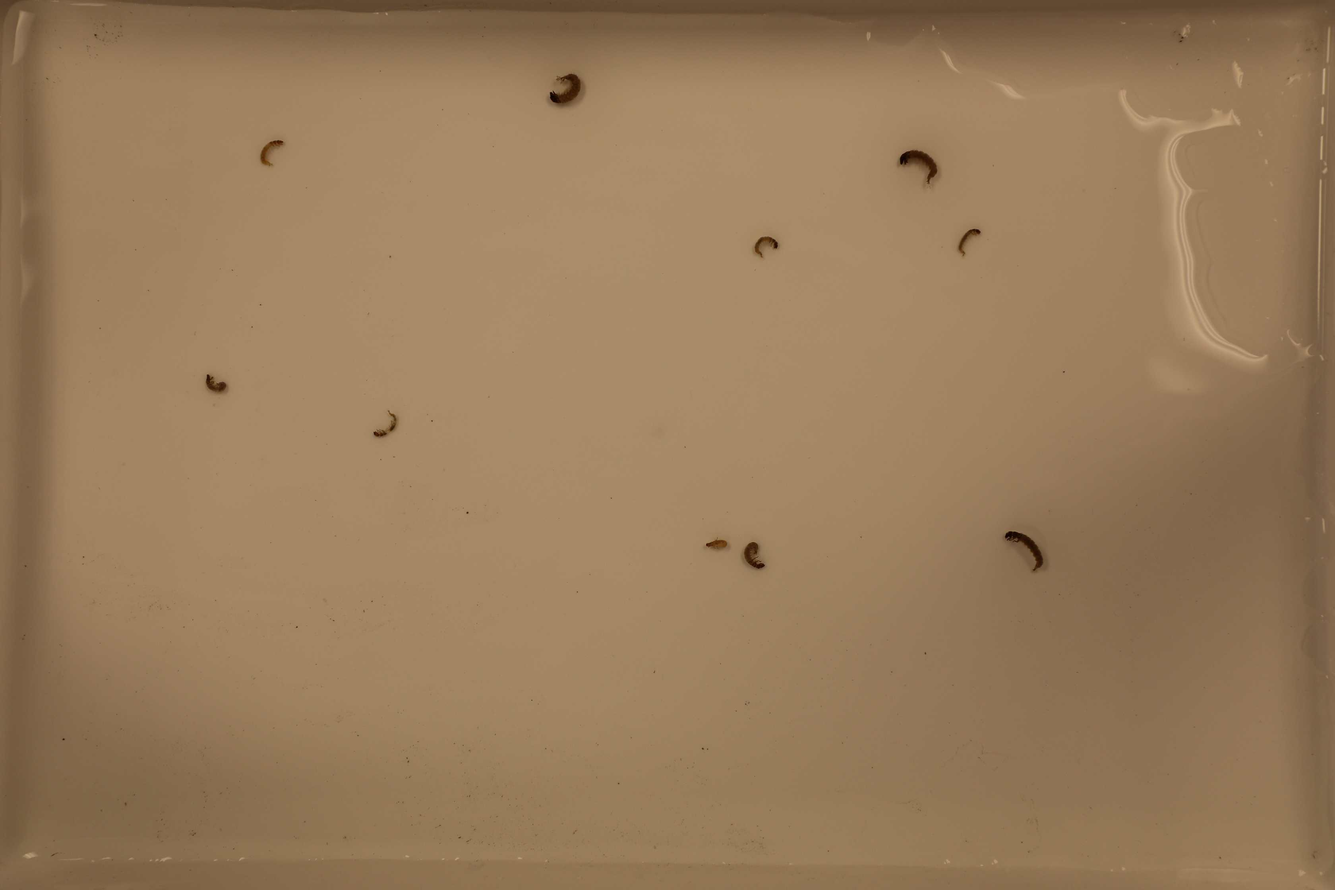Cadisfly: (997, 528, 1047, 573), (895, 140, 941, 187), (542, 73, 586, 109), (954, 221, 986, 263), (365, 408, 403, 441), (253, 132, 287, 168), (748, 228, 783, 259), (196, 368, 233, 396), (738, 537, 765, 573), (702, 532, 731, 550)
